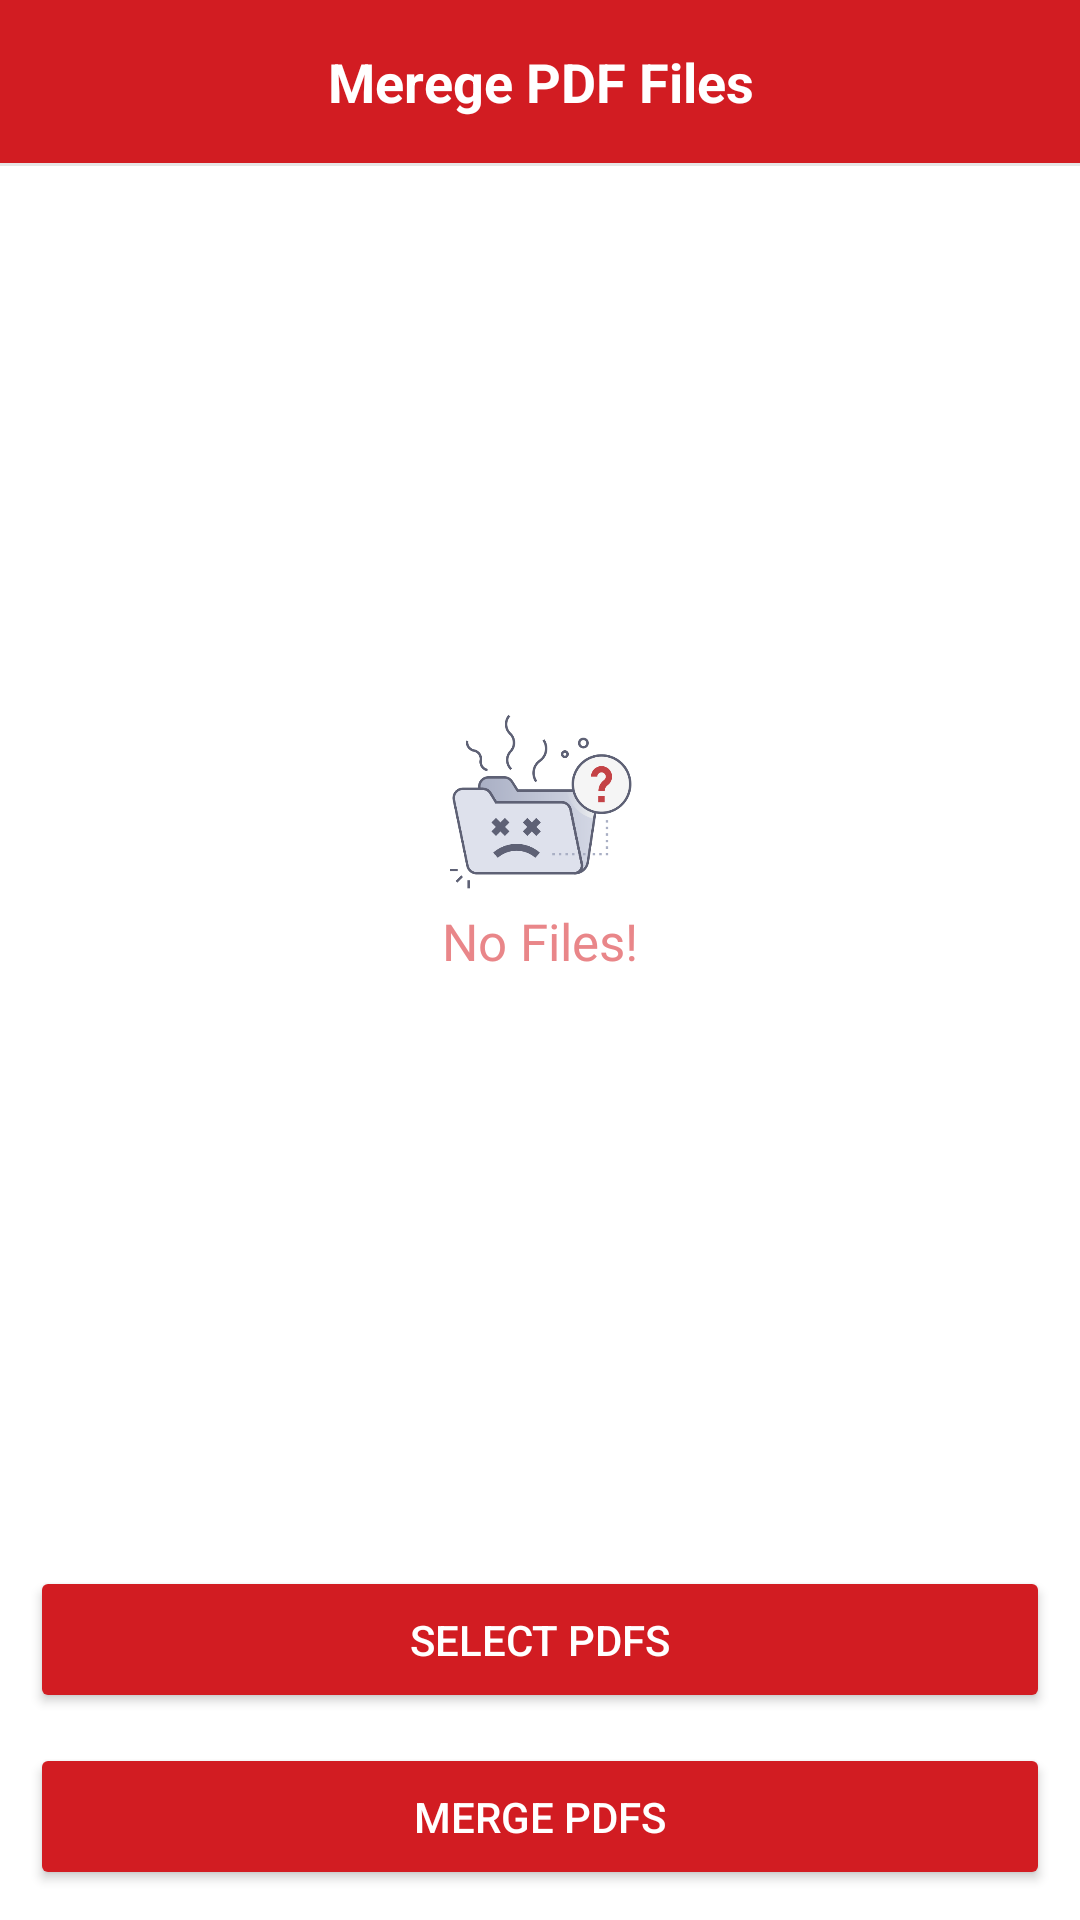

Locate icon controls on the screen. Image size 1080*1920, boxes as (x1, y1, x2, y2).
empty pdf: (450, 715, 632, 889)
